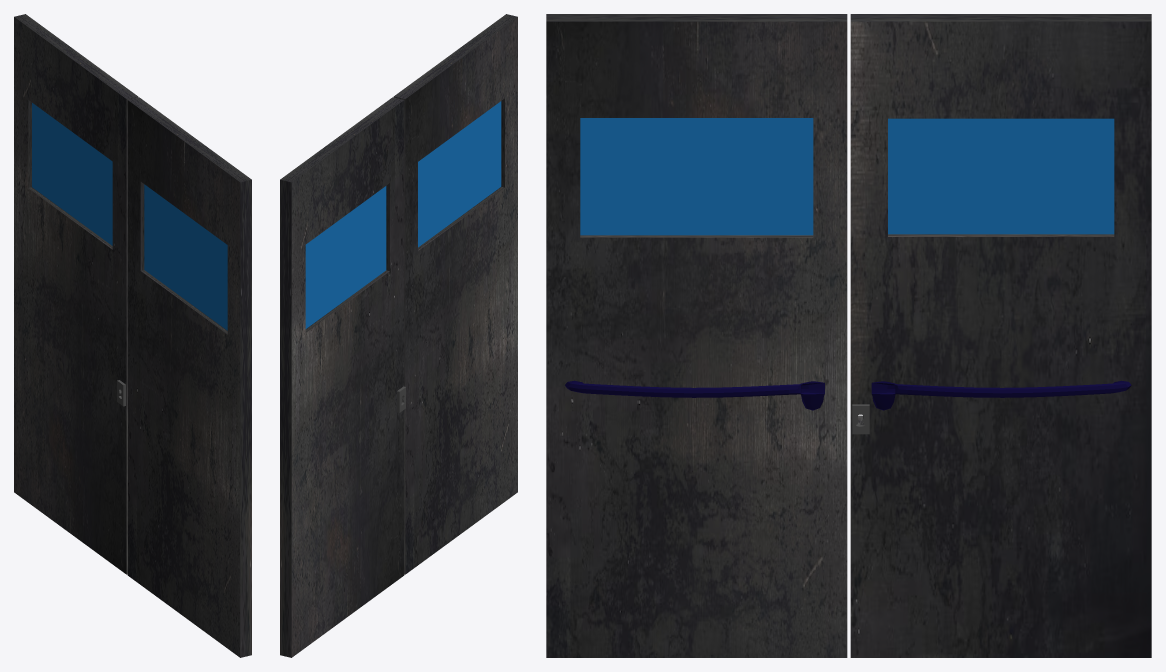
The model's file is PuertaFinal.fbx.
The picture shows the model from 3 angles, left to right: view 1: azimuth 30°, elevation 25°; view 2: azimuth 150°, elevation 25°; view 3: azimuth 270°, elevation 25°; orthographic projection. The views are drawn at different scales.
Parts seen in each view (by area): view 1: PuertaDoble; view 2: PuertaDoble; view 3: PuertaDoble.
Boxes of the visible parts, x1,y1,x2,y2 form: PuertaDoble: (14,14,251,657); PuertaDoble: (280,14,517,657); PuertaDoble: (546,14,1151,657).
Size of the model in its own units: 56.63 by 930 by 802.
Materials: 4 (1 with a texture image).
